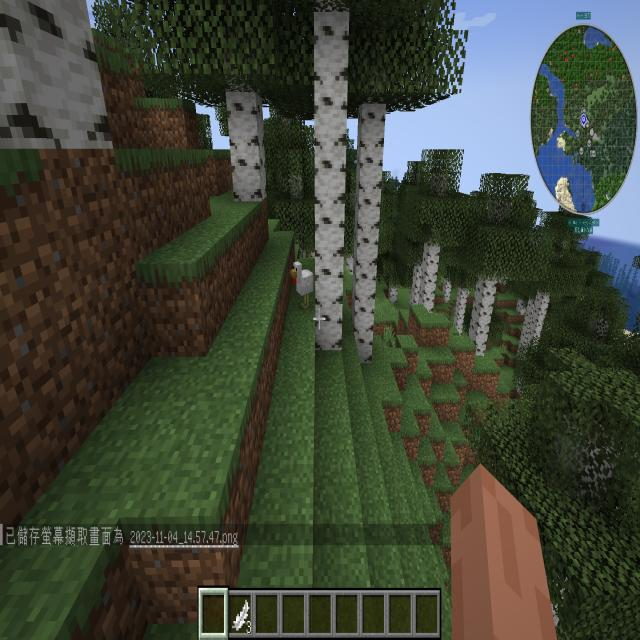chicken: (290, 251, 322, 313)
